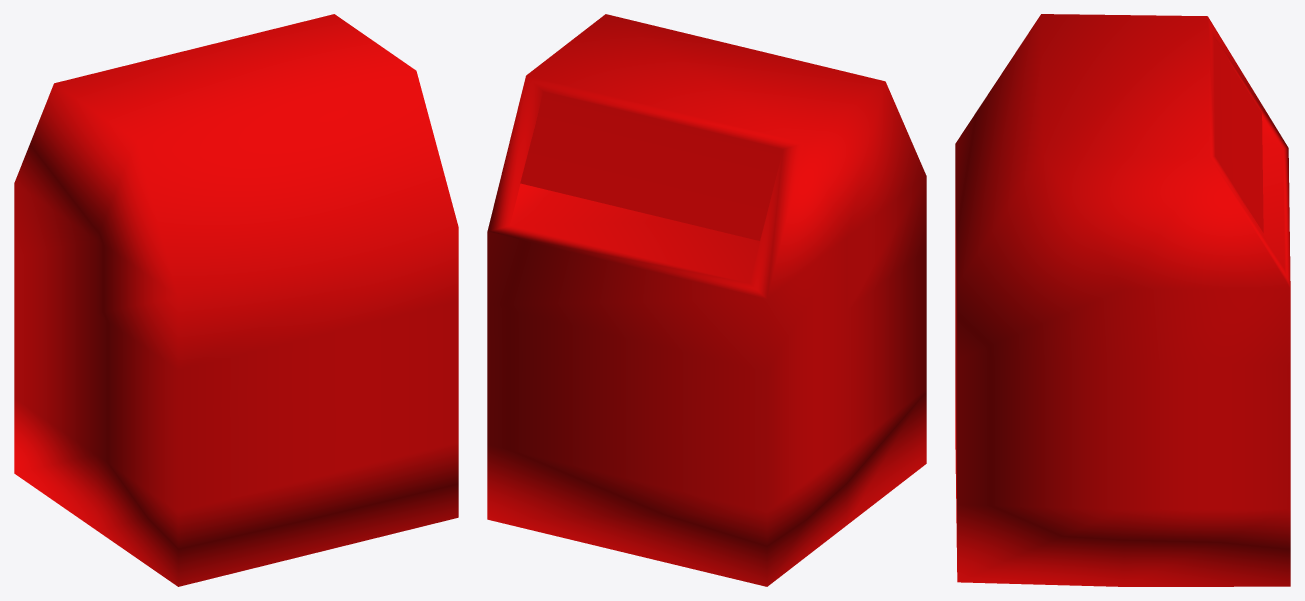
The model's file is mdl_Corredor_Box_varios.fbx.
The picture shows the model from 3 angles, left to right: view 1: azimuth 30°, elevation 25°; view 2: azimuth 150°, elevation 25°; view 3: azimuth 270°, elevation 25°; orthographic projection. The views are drawn at different scales.
Parts seen in each view (by area): view 1: mdl_Corredor_Box_varios; view 2: mdl_Corredor_Box_varios; view 3: mdl_Corredor_Box_varios.
Part boxes in pixels (x1,y1,x2,y2): mdl_Corredor_Box_varios: (14,14,458,586); mdl_Corredor_Box_varios: (487,14,926,586); mdl_Corredor_Box_varios: (955,14,1290,586).
Bounding box in the file's own units: 1.62 × 2.27 × 1.59.
